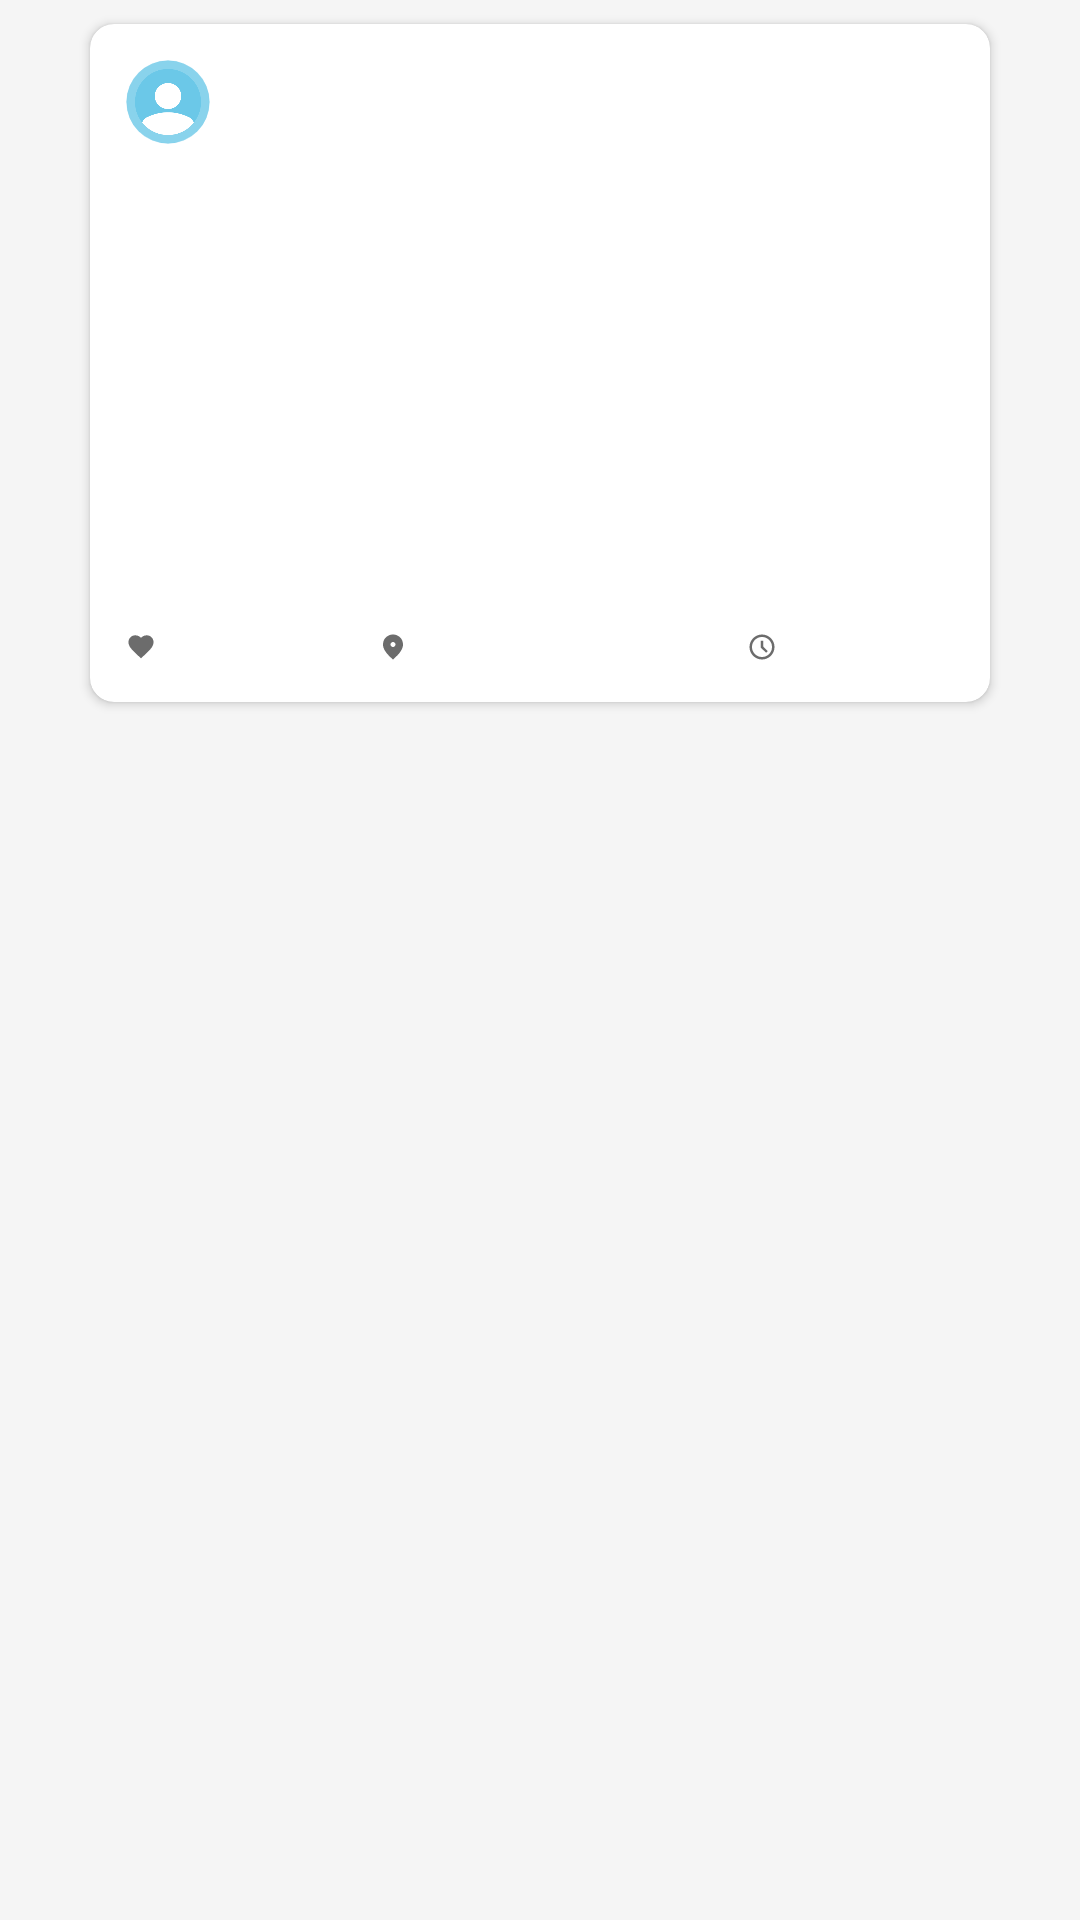

Screen size 1080x1920. Icon name, then its center in pixels as (x,y):
item like: (141,646)
item location: (393,647)
item time: (762,647)
user: (168,102)
